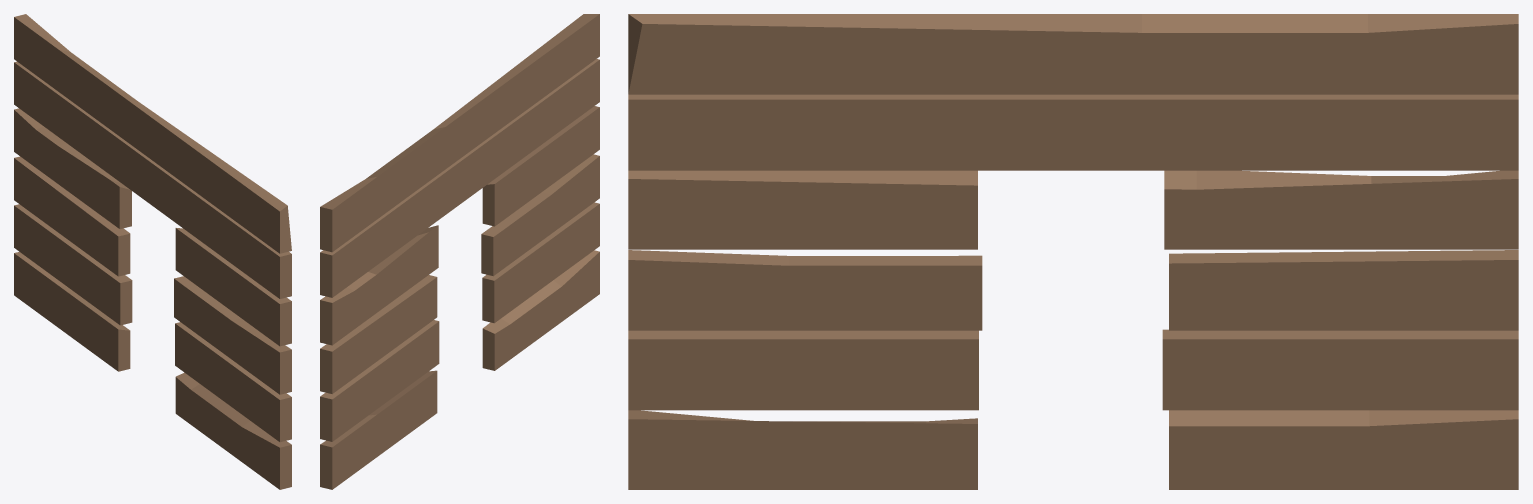
File: mur avec porte.fbx
3 views of the same model, side by side, from view 1: azimuth 30°, elevation 25°; view 2: azimuth 150°, elevation 25°; view 3: azimuth 270°, elevation 25° (orthographic). The views are drawn at different scales.
Visible parts, largest first — view 1: Cube.005; view 2: Cube.005; view 3: Cube.005.
Boxes of the visible parts, box(x1,y1,x2,y2) form: Cube.005: box(14, 14, 291, 489); Cube.005: box(320, 14, 599, 489); Cube.005: box(628, 14, 1518, 489).
Bounding box in the file's own units: 31.48 × 692 × 1198.
